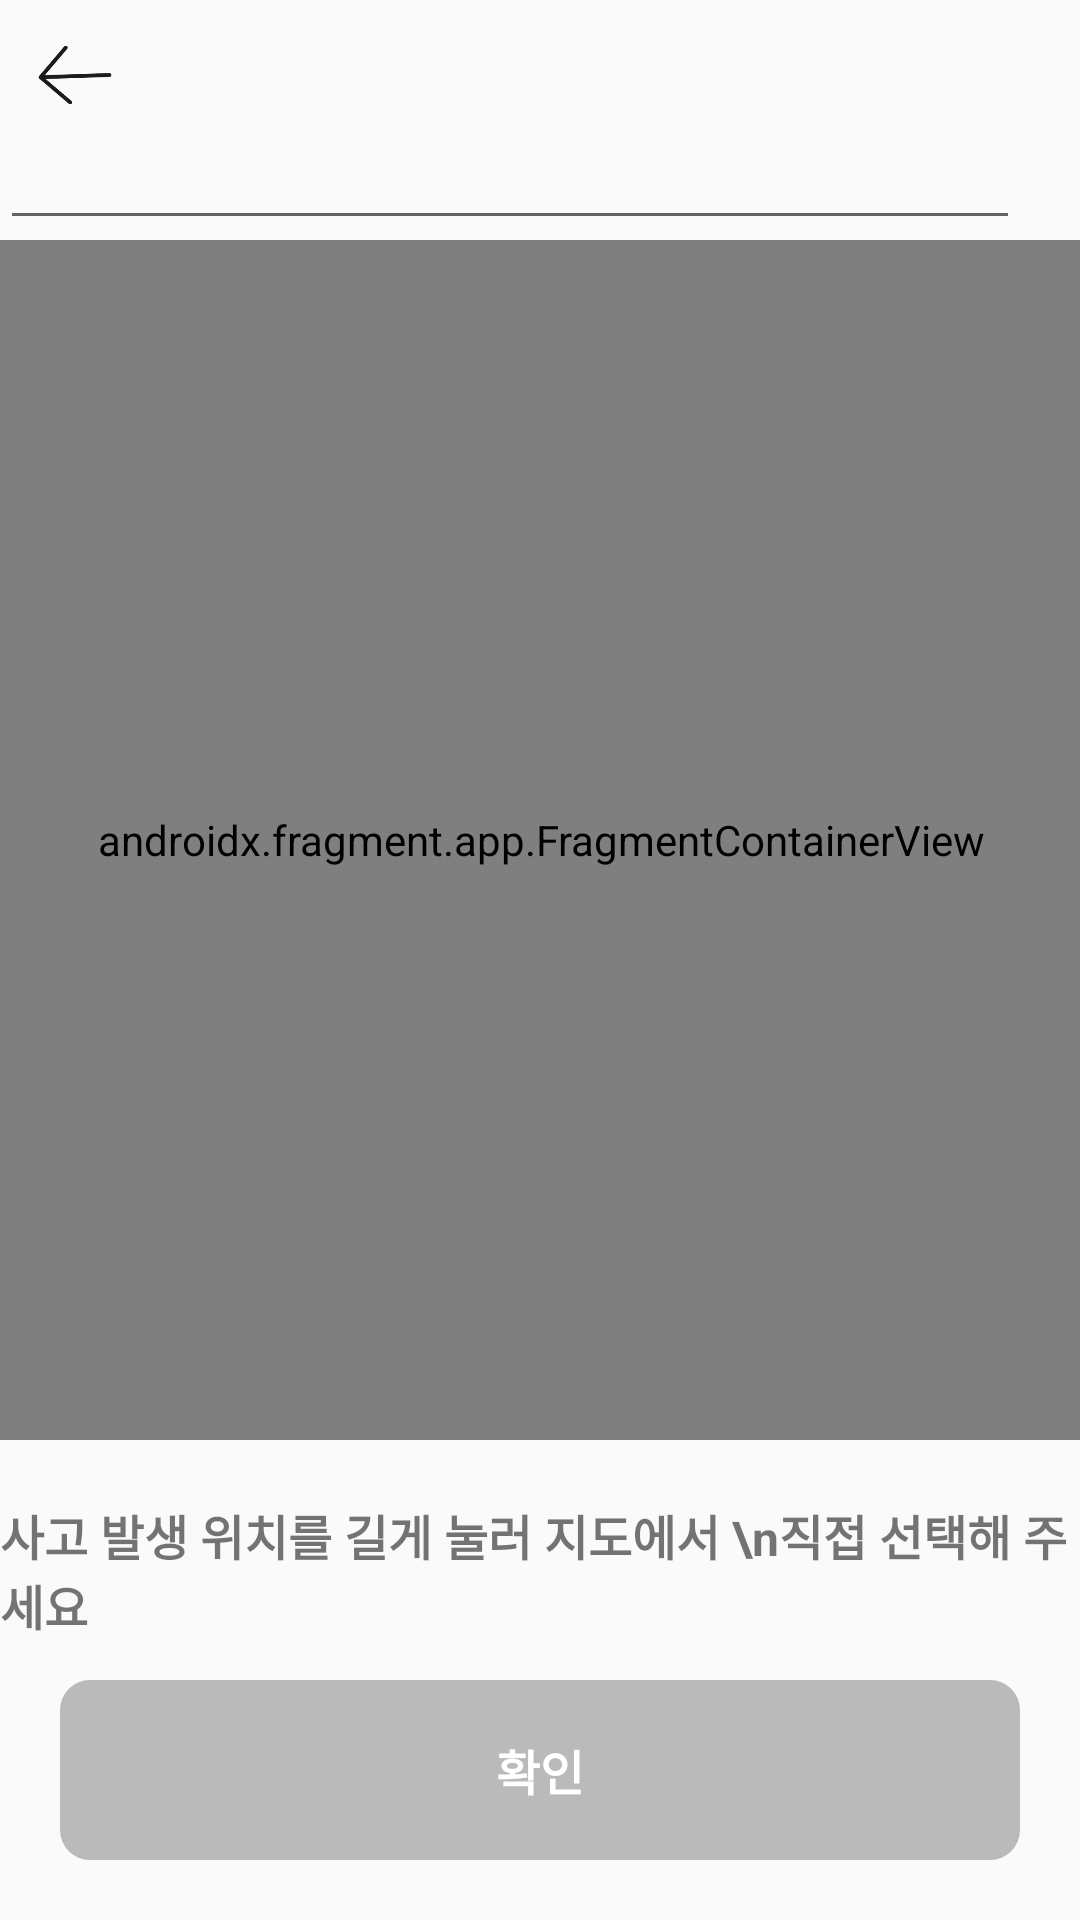

Locate icon controls on the screen. Image size 1080×1920, boxes as [x1,y1,x2,y2].
back arrow: [38,46,112,104]
